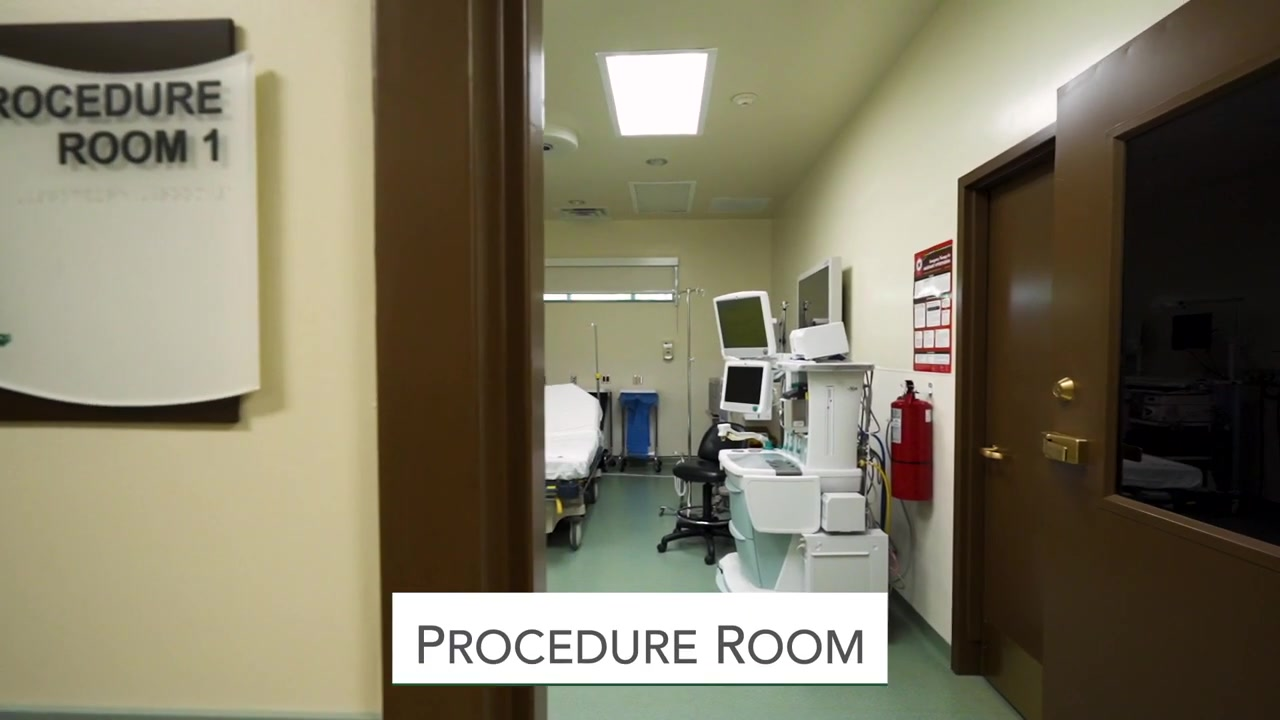bedside_monitor: (794, 255, 851, 340), (715, 291, 776, 361), (719, 360, 774, 424)
chair: (657, 417, 741, 560)
door_handle: (1040, 433, 1084, 467), (980, 446, 1005, 461)
hospital_bed: (544, 384, 609, 550)
iv_pole: (675, 287, 705, 517), (586, 319, 604, 399), (778, 300, 791, 353)
waste_bin: (616, 390, 662, 482)
